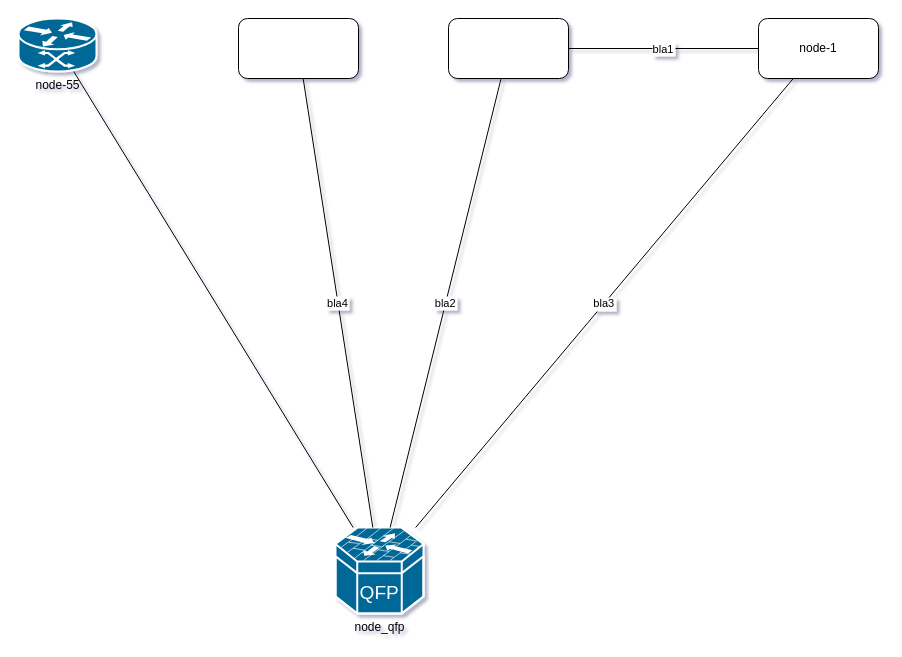
Image size: 902x657. Some labels were removed from this diagram. Each missing label, with the centre of its shape:
"node-2 Updated label" belongs at point (508, 48).
"node-4" belongs at point (298, 48).
